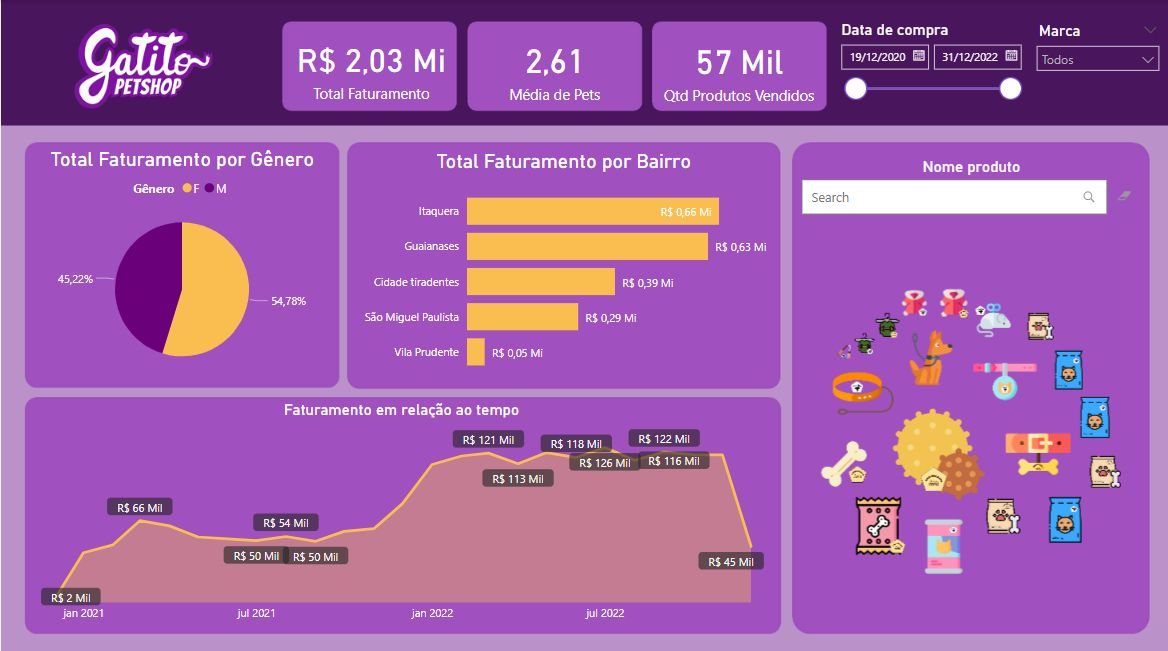

What the dashboard file says about the page in this screenshot:
{"tool":"powerbi","page":{"name":"Página 1","canvas":[1280,720],"ordinal":0},"visuals":[{"type":"card","fields":{"Values":["Vendas.Total Faturamento"]},"box":[307.1,24.7,198.8,98.7],"z":0},{"type":"card","fields":{"Values":["Avg(Clientes.Pets)"]},"box":[514.1,24.7,186.5,100.1],"z":1},{"type":"card","fields":{"Values":["Sum(Vendas.Quantidade)"]},"box":[707.5,26,204.3,100.1],"z":2},{"type":"pieChart","fields":{"Category":["Clientes.Gênero"],"Y":["Vendas.Total Faturamento"]},"box":[30.2,161.8,337.3,257.8],"z":3},{"type":"clusteredBarChart","fields":{"Category":["Clientes.Bairro"],"Y":["Vendas.Total Faturamento"]},"box":[385.3,164.5,463.4,257.8],"z":4},{"type":"areaChart","title":"Faturamento em relação ao tempo","fields":{"Category":["Vendas.Data de compra.Variation.Hierarquia de datas.Ano","Vendas.Data de compra.Variation.Hierarquia de datas.Trimestre","Vendas.Data de compra.Variation.Hierarquia de datas.Mês","Vendas.Data de compra.Variation.Hierarquia de datas.Dia"],"Y":["Vendas.Total Faturamento"]},"box":[30.2,438.7,818.5,252.3],"z":5},{"type":"ImageGrid_FC5183B9_926C_45E0_B5F7_0CE9EAF1DA9B","fields":{"ImageURL":["Produtos.Url img"]},"box":[874,255,382.5,436],"z":6},{"type":"textFilter25A4896A83E0487089E2B90C9AE57C8A","fields":{"field":["Produtos.Nome produto"]},"box":[873.4,172.8,382.5,90.5],"z":7},{"type":"slicer","fields":{"Values":["Produtos.Marca"]},"box":[1125.6,19.2,154.9,76.8],"z":8},{"type":"slicer","fields":{"Values":["Vendas.Data de compra"]},"box":[909,17.8,219.4,154.9],"z":9}]}

Visuals, with their boxes in screenshot pixels (x1, y1, x2, y2), scaled from the page's 1280x720 canvas onto the 1168x651 screenshot:
card - Vendas.Total Faturamento: locate(280, 22, 462, 112)
card - Avg(Clientes.Pets): locate(469, 22, 639, 113)
card - Sum(Vendas.Quantidade): locate(646, 24, 832, 114)
pieChart - Clientes.Gênero x Vendas.Total Faturamento: locate(28, 146, 335, 379)
clusteredBarChart - Clientes.Bairro x Vendas.Total Faturamento: locate(352, 149, 774, 382)
"Faturamento em relação ao tempo" areaChart: locate(28, 397, 774, 625)
ImageGrid_FC5183B9_926C_45E0_B5F7_0CE9EAF1DA9B - Produtos.Url img: locate(798, 231, 1147, 625)
textFilter25A4896A83E0487089E2B90C9AE57C8A - Produtos.Nome produto: locate(797, 156, 1146, 238)
slicer - Produtos.Marca: locate(1027, 17, 1167, 87)
slicer - Vendas.Data de compra: locate(829, 16, 1030, 156)
